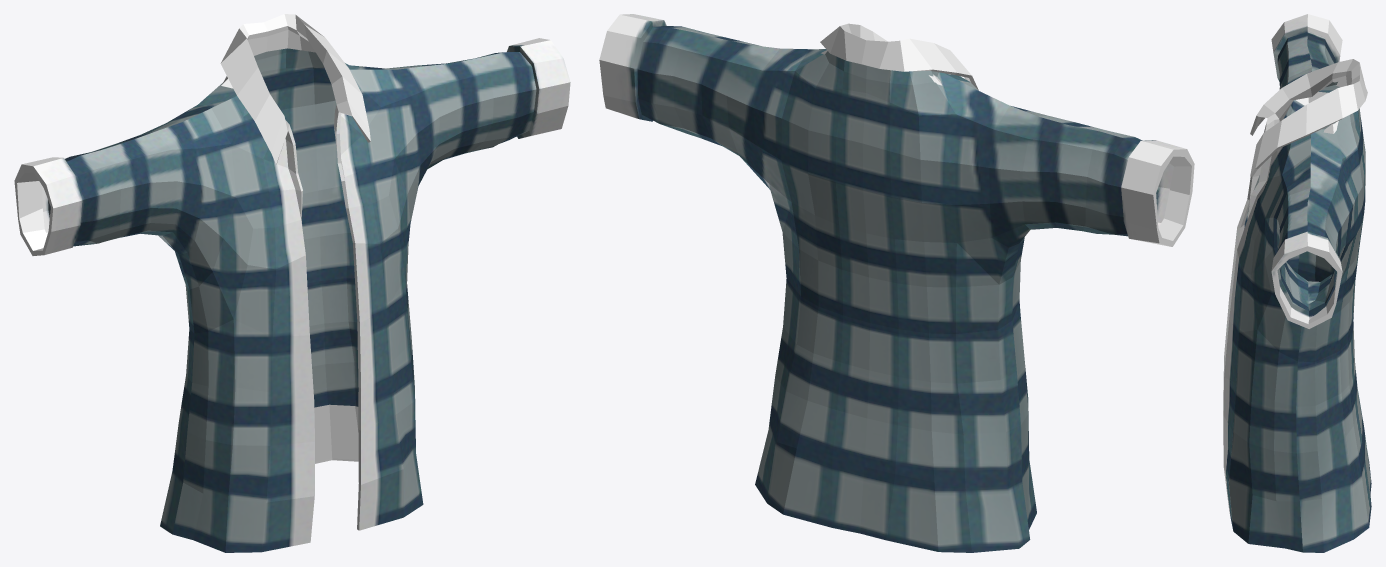
The model's file is yifu.obj.
3 views of the same model, side by side, from view 1: azimuth 30°, elevation 25°; view 2: azimuth 150°, elevation 25°; view 3: azimuth 270°, elevation 25° (orthographic). The views are drawn at different scales.
Parts seen in each view (by area): view 1: shangyi shngshen boyl_f1; view 2: shangyi shngshen boyl_f1; view 3: shangyi shngshen boyl_f1.
Part boxes in pixels (box(x1,y1,x2,y2)): shangyi shngshen boyl_f1: box(14, 14, 570, 552); shangyi shngshen boyl_f1: box(599, 14, 1194, 552); shangyi shngshen boyl_f1: box(1223, 14, 1371, 552).
Bounding box in the file's own units: 11.2 × 9.64 × 3.02.
